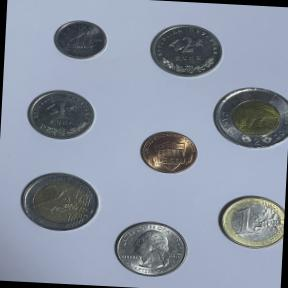1 Euro: (212, 190, 286, 254)
2 Euro: (15, 165, 106, 239)
Canda-10cent-: (50, 16, 112, 66)
Canda-2Dollar-: (207, 81, 288, 157)
Croatia-2Kune-: (145, 20, 227, 85)
US-1cent-: (136, 126, 202, 181)
US-25cent-: (110, 217, 192, 282)
